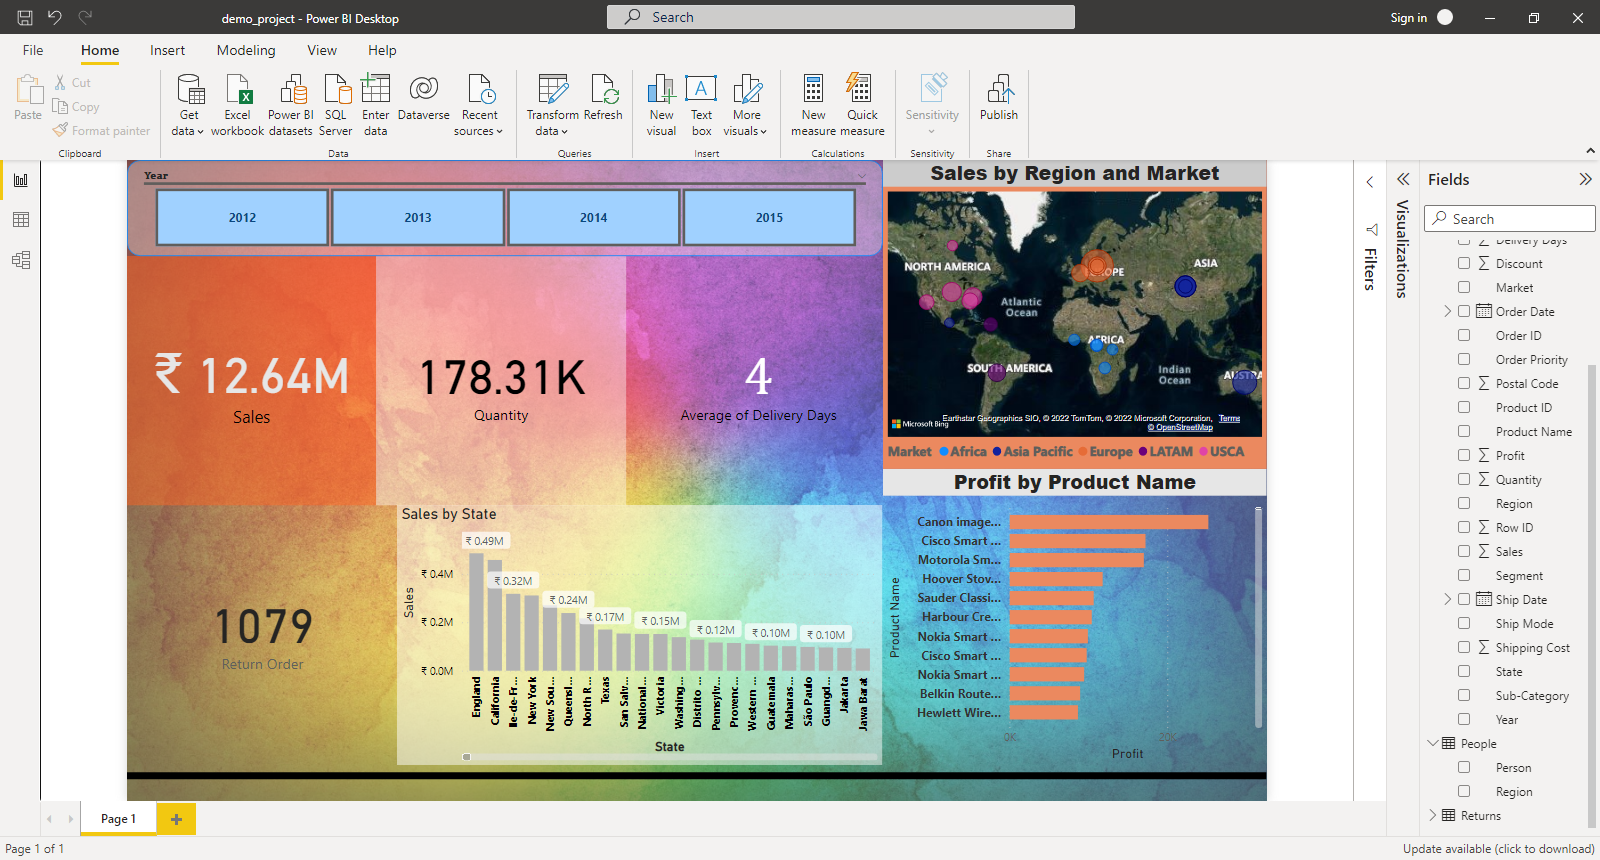

This screenshot's page, from the dashboard's own definition file:
{"tool":"powerbi","page":{"name":"Page 1","canvas":[1280,720],"ordinal":0},"visuals":[{"type":"card","fields":{"Values":["Avg(Orders.Delivery Days)"]},"box":[569.5,108,279.6,279.6],"z":0},{"type":"card","fields":{"Values":["Sum(Orders.Sales)"]},"box":[0,108,279.6,279.6],"z":1000},{"type":"card","fields":{"Values":["Sum(Orders.Quantity)"]},"box":[279.6,108,280.9,279.6],"z":2000},{"type":"shape","box":[0,680,1280,24.2],"z":3000},{"type":"slicer","fields":{"Values":["Orders.Year"]},"box":[0,0,849.1,108],"z":4000},{"type":"card","fields":{"Values":["Sum(Returns.Return Order)"]},"box":[0,387.7,303.8,279.6],"z":5000},{"type":"map","fields":{"Category":["Orders.Region"],"Size":["Sum(Orders.Sales)"],"Series":["Orders.Market"]},"box":[849.1,0,430.9,346.8],"z":6000},{"type":"barChart","fields":{"Category":["Orders.Product Name"],"Y":["Sum(Orders.Profit)"]},"box":[849.1,346.8,430.9,332.7],"z":7000},{"type":"lineClusteredColumnComboChart","fields":{"Category":["Orders.State"],"Y":["Sum(Orders.Sales)"]},"box":[303.8,387.7,545.3,292.4],"z":7001}]}

Visuals, with their boxes on the page's 1280x720 design canvas (x1, y1, x2, y2). These are canvas units, not pixel positions in the 1600x860 screenshot, which may show the page scaled, cropped or inside an application window:
card - Avg(Orders.Delivery Days): left=570, top=108, right=849, bottom=388
card - Sum(Orders.Sales): left=0, top=108, right=280, bottom=388
card - Sum(Orders.Quantity): left=280, top=108, right=560, bottom=388
shape: left=0, top=680, right=1280, bottom=704
slicer - Orders.Year: left=0, top=0, right=849, bottom=108
card - Sum(Returns.Return Order): left=0, top=388, right=304, bottom=667
map - Orders.Region x Sum(Orders.Sales): left=849, top=0, right=1280, bottom=347
barChart - Orders.Product Name x Sum(Orders.Profit): left=849, top=347, right=1280, bottom=680
lineClusteredColumnComboChart - Orders.State x Sum(Orders.Sales): left=304, top=388, right=849, bottom=680
